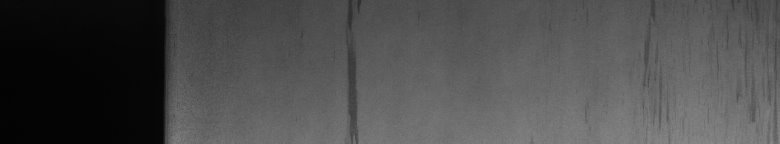hd: (343, 4, 360, 136)
